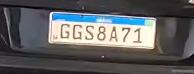Placa_mercosul_carro: (48, 11, 157, 49)
